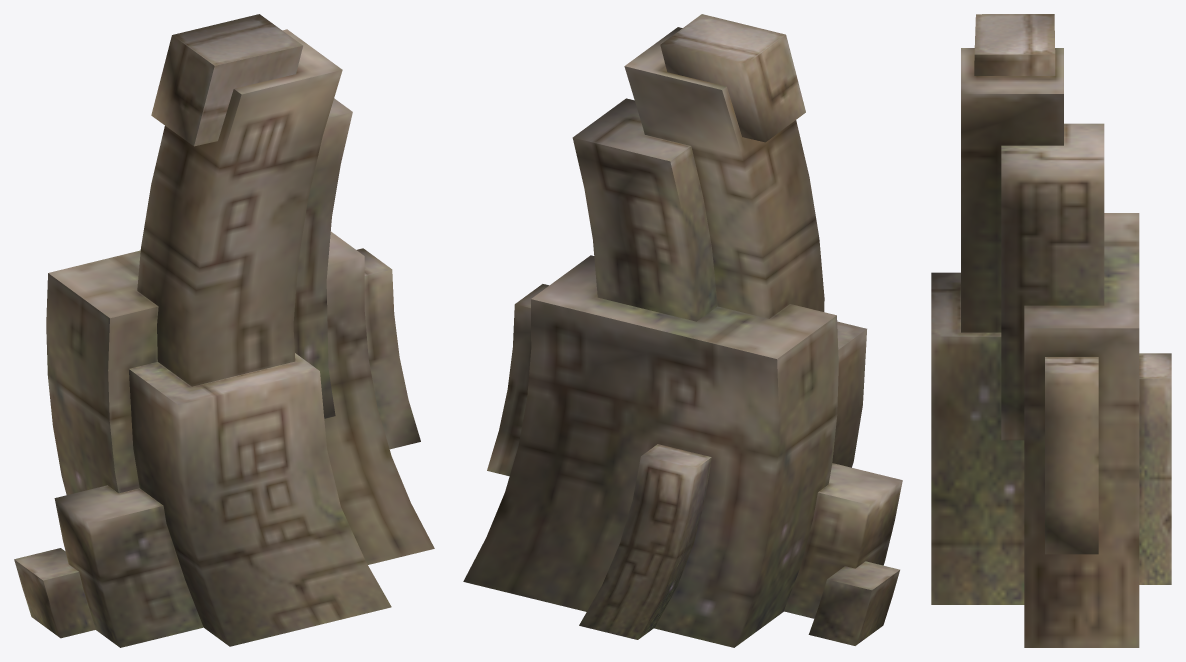
The model's file is stone_21.FBX.
3 views of the same model, side by side, from view 1: azimuth 30°, elevation 25°; view 2: azimuth 150°, elevation 25°; view 3: azimuth 270°, elevation 25° (orthographic). The views are drawn at different scales.
Parts seen in each view (by area): view 1: stone_21; view 2: stone_21; view 3: stone_21.
Boxes of the visible parts, bbox=[...] form: stone_21: bbox=[14, 14, 434, 647]; stone_21: bbox=[463, 14, 902, 647]; stone_21: bbox=[931, 14, 1171, 647].
Size of the model in its own units: 232 by 319 by 133.
